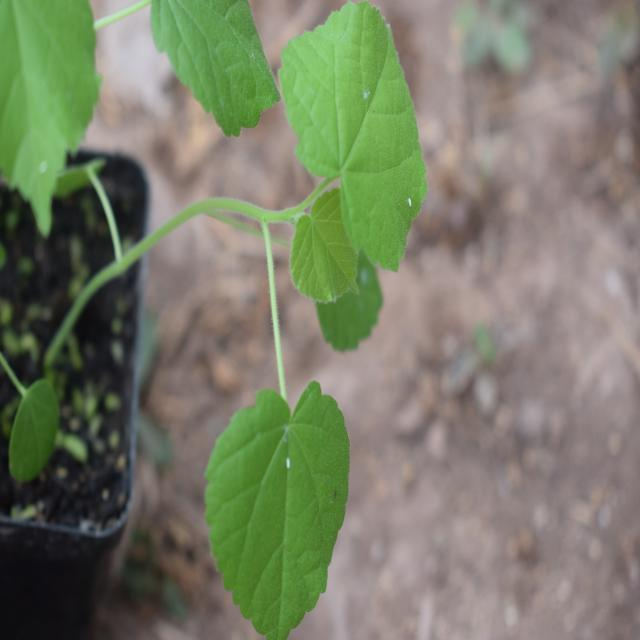abutilon theophrasti: (184, 0, 447, 605)
